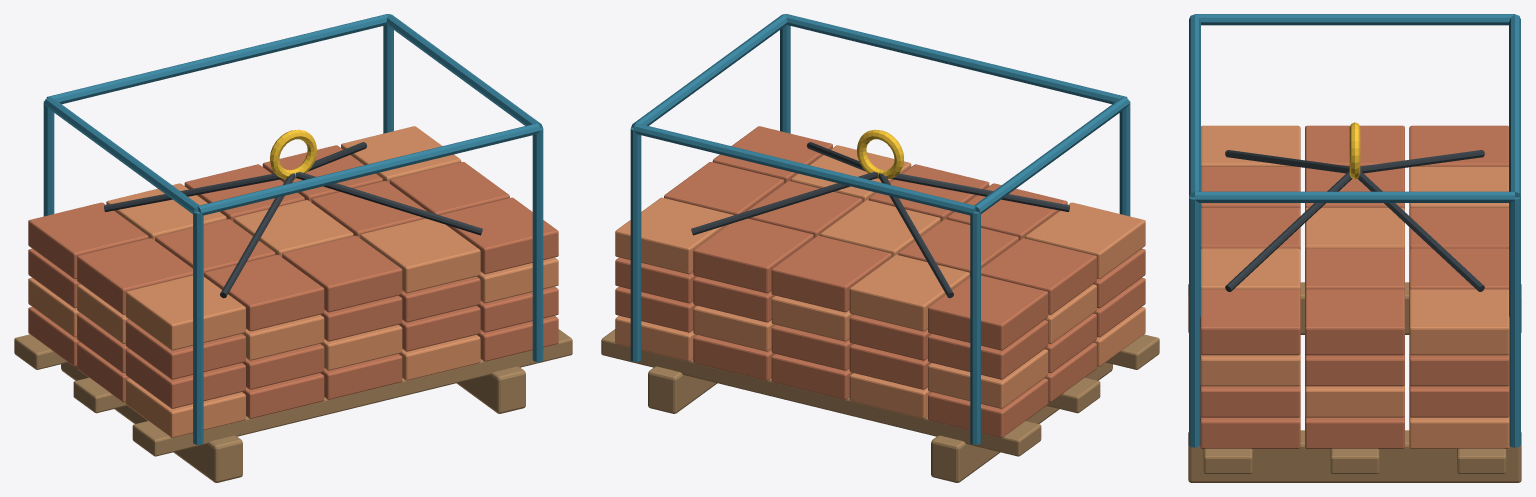
Rendered from brick-pallet-unit.glb.
3 renders of one model, left to right at view 1: azimuth 30°, elevation 25°; view 2: azimuth 150°, elevation 25°; view 3: azimuth 270°, elevation 25°, orthographic. The views are drawn at different scales.
Visible parts, largest first — view 1: PalletDeck.015, Brick.045, Brick.051, Brick.054, Brick.048, Brick.057, Brick.046, Brick.047, LiftFrameRail.010, LiftFrameRail.011, Brick.058, Brick.052 (+41 smaller); view 2: PalletDeck.017, Brick.047, Brick.053, Brick.056, Brick.050, Brick.059, Brick.046, Brick.045, LiftFrameRail.011, LiftFrameRail.010, Brick.058, Brick.052 (+41 smaller); view 3: PalletFoot.011, Brick.057, Brick.059, Brick.058, Brick.055, Brick.052, Brick.051, Brick.053, LiftFrameTop.011, Brick.054, Brick.056, LiftFrameTop.010 (+28 smaller).
Part boxes in pixels (bbox=[...]): PalletDeck.015: bbox=[132, 329, 572, 456]; Brick.045: bbox=[125, 275, 245, 350]; Brick.051: bbox=[282, 235, 402, 312]; Brick.054: bbox=[360, 218, 480, 293]; Brick.048: bbox=[204, 254, 324, 331]; Brick.057: bbox=[440, 197, 558, 274]; Brick.046: bbox=[77, 238, 192, 314]; Brick.047: bbox=[28, 202, 148, 279]; LiftFrameRail.010: bbox=[198, 123, 540, 215]; LiftFrameRail.011: bbox=[46, 14, 388, 104]; Brick.058: bbox=[389, 162, 509, 215]; Brick.052: bbox=[233, 200, 353, 256]; PalletDeck.017: bbox=[601, 329, 1041, 456]; Brick.047: bbox=[928, 275, 1048, 350]; Brick.053: bbox=[771, 235, 891, 312]; Brick.056: bbox=[693, 218, 813, 293]; Brick.050: bbox=[849, 254, 969, 331]; Brick.059: bbox=[615, 197, 733, 274]; Brick.046: bbox=[981, 238, 1096, 314]; Brick.045: bbox=[1025, 202, 1145, 279]; LiftFrameRail.011: bbox=[633, 123, 975, 215]; LiftFrameRail.010: bbox=[785, 14, 1127, 104]; Brick.058: bbox=[664, 162, 784, 215]; Brick.052: bbox=[820, 200, 940, 256]; PalletFoot.011: bbox=[1188, 430, 1521, 482]; Brick.057: bbox=[1200, 289, 1300, 355]; Brick.059: bbox=[1409, 289, 1509, 355]; Brick.058: bbox=[1305, 289, 1404, 355]; Brick.055: bbox=[1305, 248, 1404, 290]; Brick.052: bbox=[1305, 207, 1404, 249]; Brick.051: bbox=[1201, 207, 1300, 249]; Brick.053: bbox=[1409, 207, 1508, 249]; LiftFrameTop.011: bbox=[1195, 191, 1514, 202]; Brick.054: bbox=[1201, 248, 1300, 290]; Brick.056: bbox=[1409, 248, 1508, 290]; LiftFrameTop.010: bbox=[1195, 14, 1514, 25].
Bounding box in the file's own units: 2.33 × 1.49 × 1.5.
